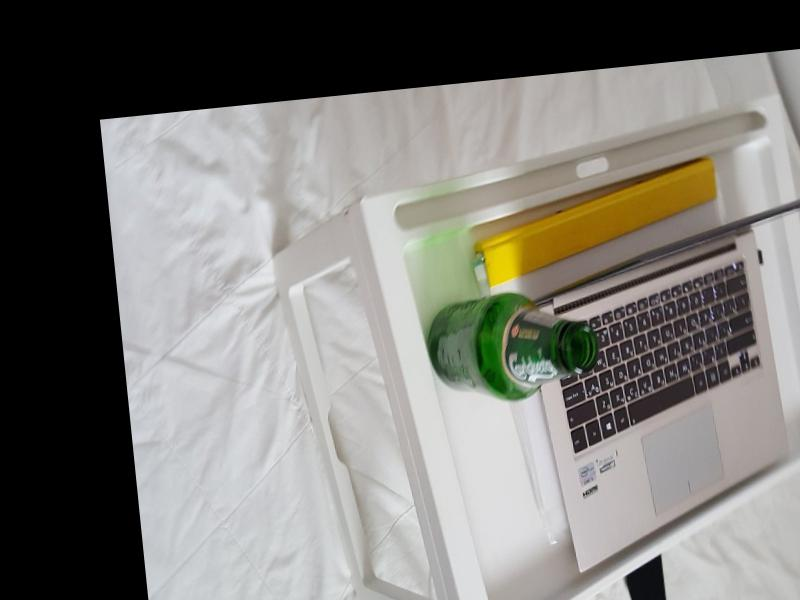Beer: (422, 285, 601, 406)
